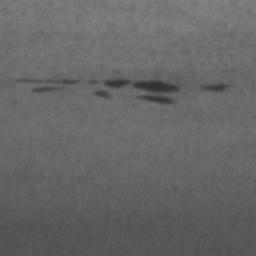Inclusion: (134, 81, 180, 105), (105, 79, 131, 90), (206, 83, 228, 92)
